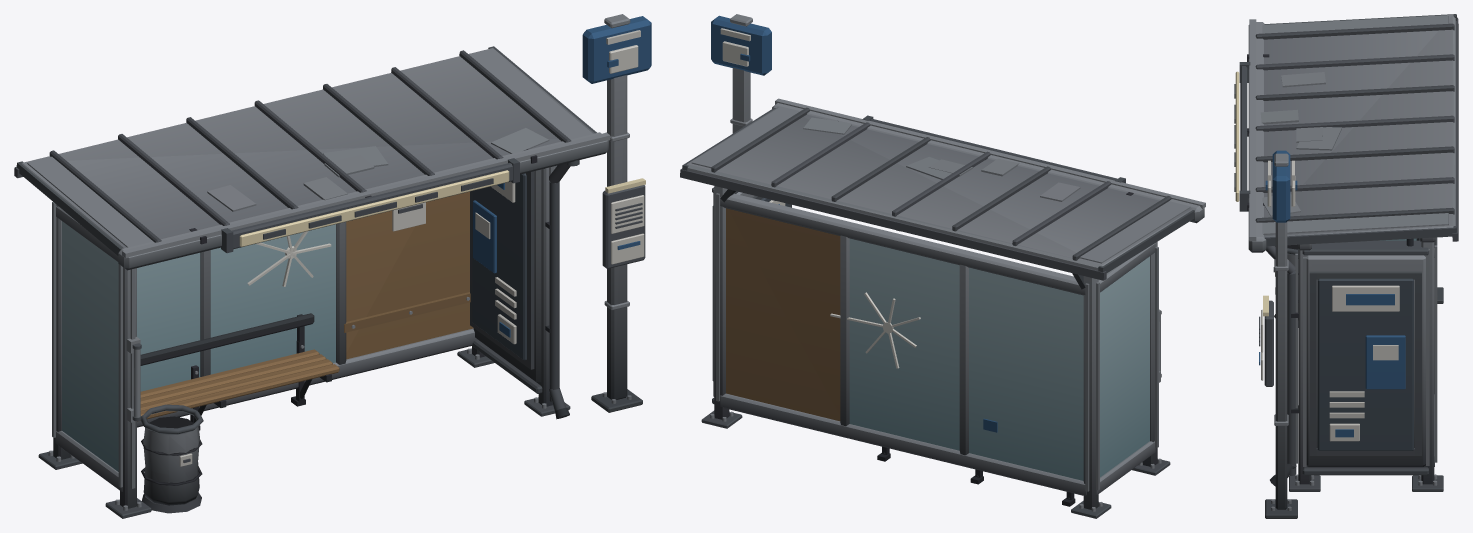
The model's file is bus-shelter-01.glb.
3 views of the same model, side by side, from view 1: azimuth 30°, elevation 25°; view 2: azimuth 150°, elevation 25°; view 3: azimuth 270°, elevation 25° (orthographic). The views are drawn at different scales.
Parts seen in each view (by area): view 1: bus_shelter_01; view 2: bus_shelter_01; view 3: bus_shelter_01.
Boxes of the visible parts, bbox=[...] form: bus_shelter_01: bbox=[14, 14, 651, 518]; bus_shelter_01: bbox=[680, 14, 1205, 518]; bus_shelter_01: bbox=[1234, 14, 1458, 518].
Bounding box in the file's own units: 4.91 × 3.35 × 1.91.
